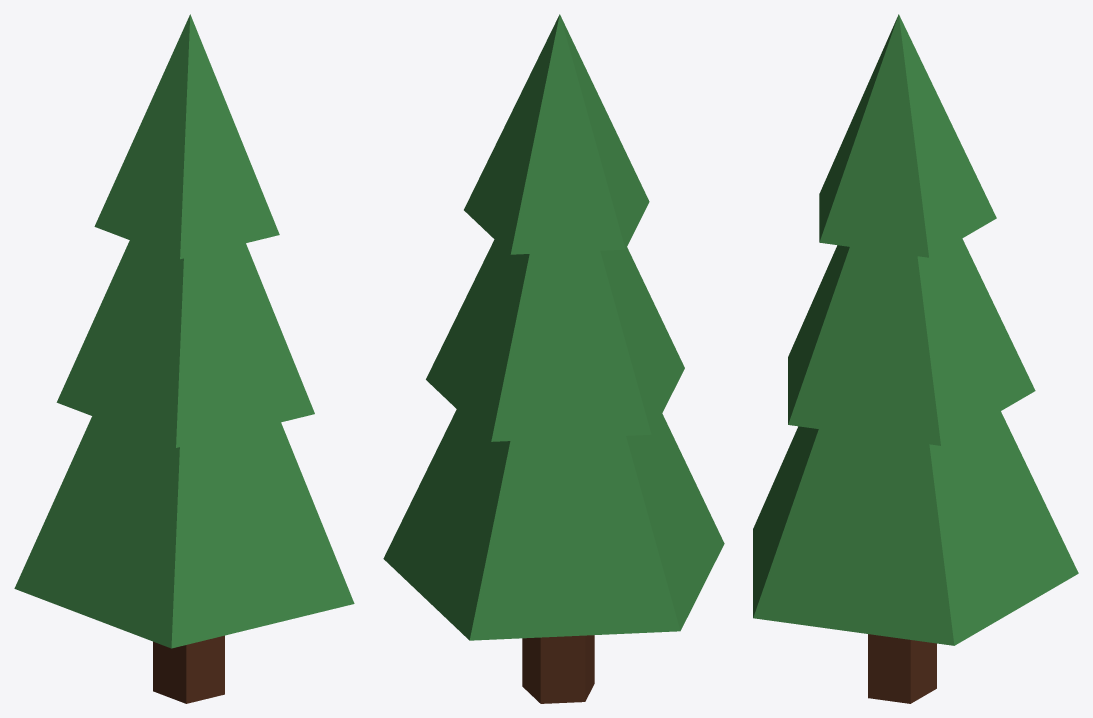
File: tree.fbx
3 renders of one model, left to right at view 1: azimuth 30°, elevation 25°; view 2: azimuth 150°, elevation 25°; view 3: azimuth 270°, elevation 25°, orthographic.
Visible parts, largest first — view 1: Circle.001; view 2: Circle.001; view 3: Circle.001.
Part boxes in pixels (bbox=[...]): Circle.001: bbox=[14, 14, 354, 703]; Circle.001: bbox=[383, 14, 724, 703]; Circle.001: bbox=[753, 14, 1078, 703].
Bounding box in the file's own units: 95.29 × 207 × 90.63.
